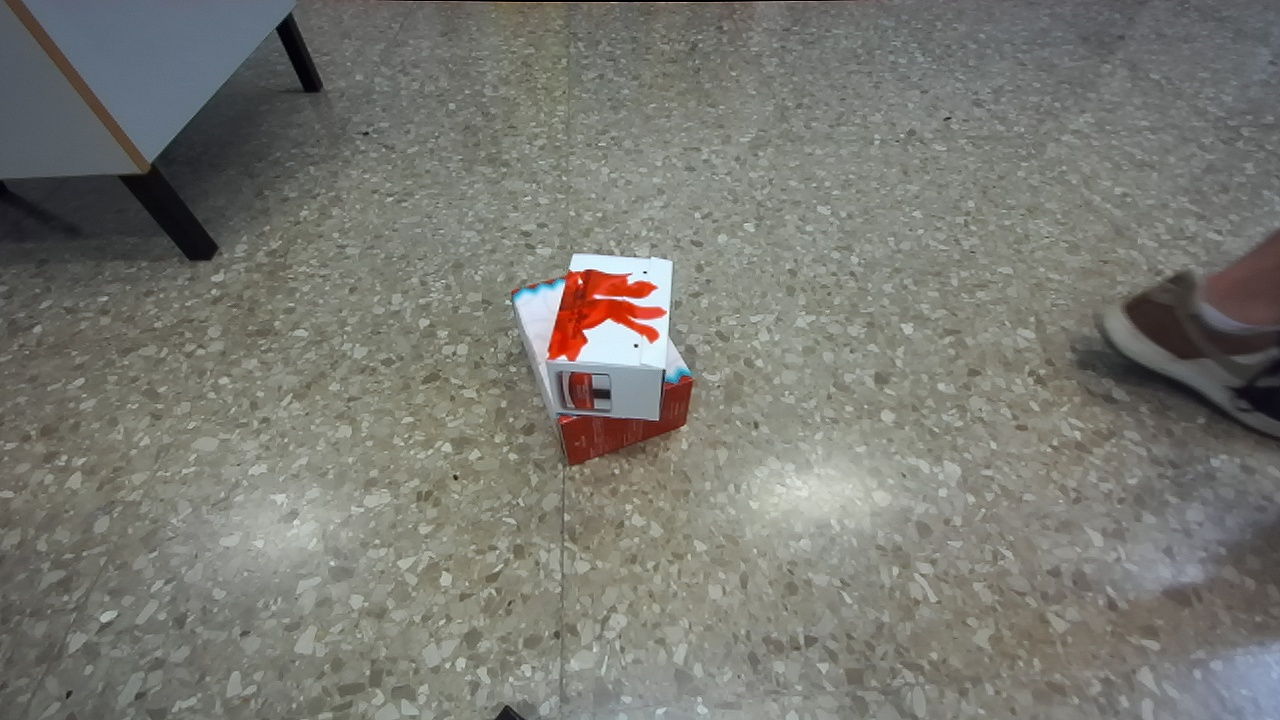caja_busbar: (511, 273, 693, 466)
caja_potencia: (547, 254, 671, 419)
